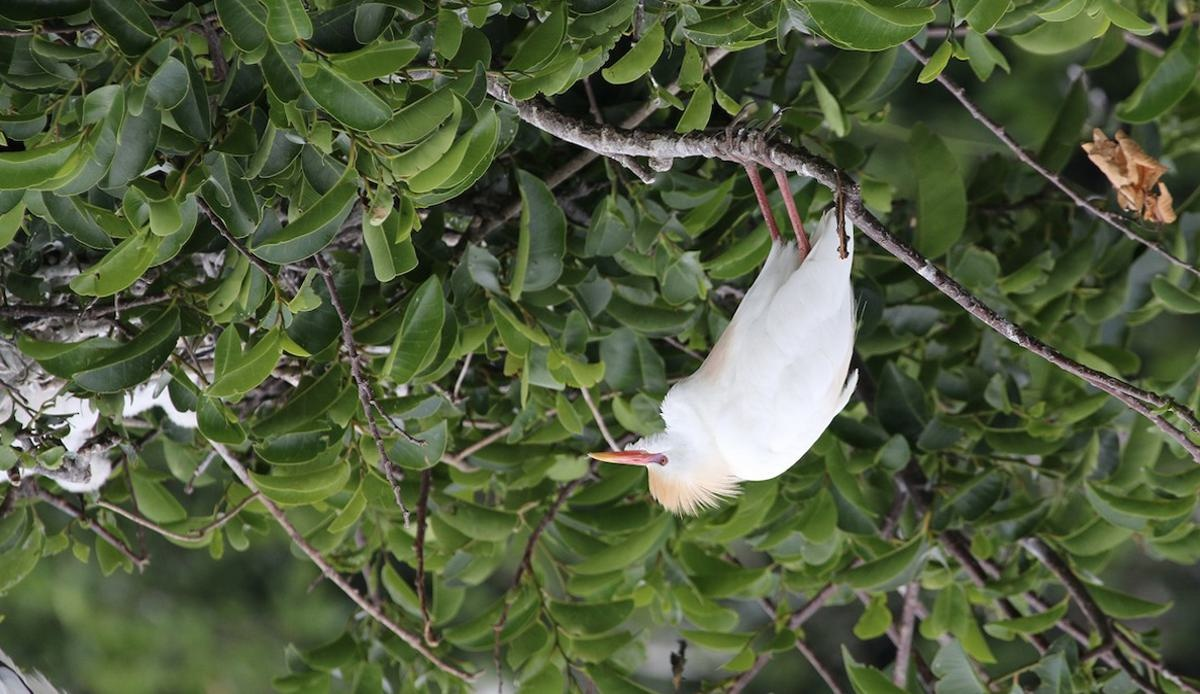egret: (574, 116, 891, 520)
